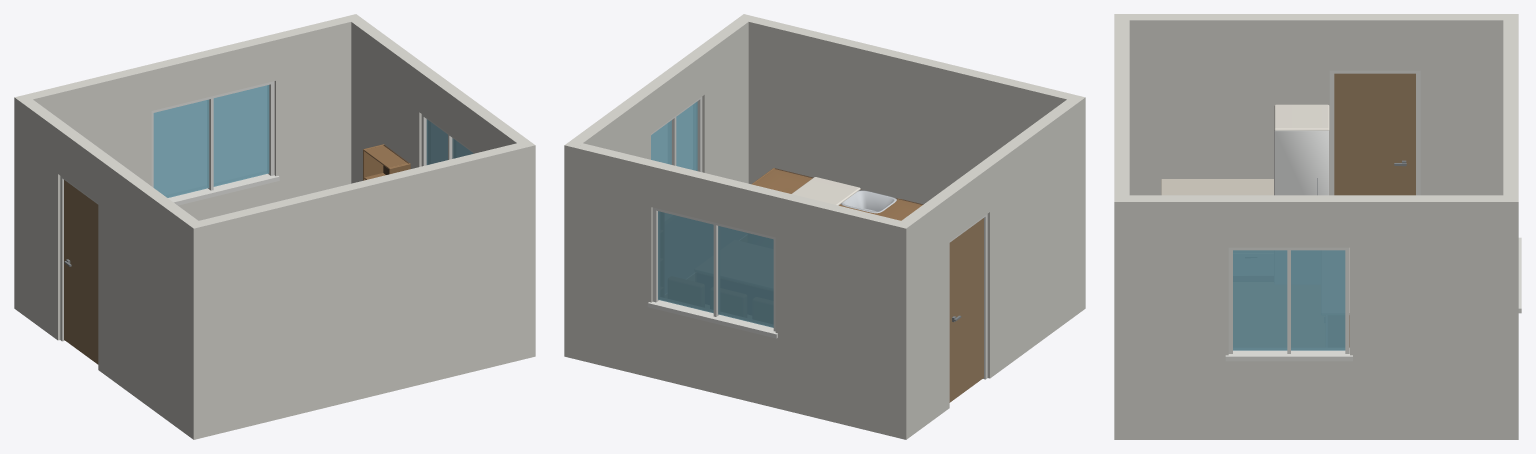
File: oursv11b.glb
3 renders of one model, left to right at view 1: azimuth 30°, elevation 25°; view 2: azimuth 150°, elevation 25°; view 3: azimuth 270°, elevation 25°, orthographic. The views are drawn at different scales.
Parts seen in each view (by area): view 1: wall|scenesmith_091__R00|0, wall|scenesmith_091__R00|2, wall|scenesmith_091__R00|1, wall|scenesmith_091__R00|3, wall|scenesmith_091__R00|1 Window 0 | glazing, wall|scenesmith_091__R00|2 Door 0 | wood leaf, wall|scenesmith_091__R00|1 Window 0 | jamb, Backrest.001, wall|scenesmith_091__R00|3 Window 0 | glazing, wall|scenesmith_091__R00|2 Door 0 | jamb, wall|scenesmith_091__R00|3 Window 0 | jamb; view 2: wall|scenesmith_091__R00|1, wall|scenesmith_091__R00|0, wall|scenesmith_091__R00|2, wall|scenesmith_091__R00|3, wall|scenesmith_091__R00|1 Window 0 | glazing, wall|scenesmith_091__R00|2 Door 0 | wood leaf, wall|scenesmith_091__R00|1 Window 0 | jamb, wall|scenesmith_091__R00|3 Window 0 | glazing, Backrest.001, Appliance enclosure, Basin, wall|scenesmith_091__R00|3 Window 0 | jamb (+1 smaller); view 3: wall|scenesmith_091__R00|3, wall|scenesmith_091__R00|2, wall|scenesmith_091__R00|3 Window 0 | glazing, wall|scenesmith_091__R00|2 Door 0 | wood leaf, wall|scenesmith_091__R00|1, Freezer drawer, wall|scenesmith_091__R00|3 Window 0 | jamb, wall|scenesmith_091__R00|0, Stone worktop, wall|scenesmith_091__R00|2 Door 0 | jamb, Appliance enclosure.
Boxes of the visible parts, <box> form: wall|scenesmith_091__R00|0: <box>193,143,535,439</box>; wall|scenesmith_091__R00|2: <box>15,94,205,439</box>; wall|scenesmith_091__R00|1: <box>14,17,351,313</box>; wall|scenesmith_091__R00|3: <box>345,14,534,183</box>; wall|scenesmith_091__R00|1 Window 0 | glazing: <box>153,85,269,197</box>; wall|scenesmith_091__R00|2 Door 0 | wood leaf: <box>64,180,98,364</box>; wall|scenesmith_091__R00|1 Window 0 | jamb: <box>151,81,279,205</box>; Backrest.001: <box>363,144,410,180</box>; wall|scenesmith_091__R00|3 Window 0 | glazing: <box>426,119,473,164</box>; wall|scenesmith_091__R00|2 Door 0 | jamb: <box>60,176,98,341</box>; wall|scenesmith_091__R00|3 Window 0 | jamb: <box>421,114,473,166</box>; wall|scenesmith_091__R00|1: <box>576,143,912,439</box>; wall|scenesmith_091__R00|0: <box>748,17,1073,204</box>; wall|scenesmith_091__R00|2: <box>894,94,1085,439</box>; wall|scenesmith_091__R00|3: <box>564,14,754,359</box>; wall|scenesmith_091__R00|1 Window 0 | glazing: <box>658,211,773,327</box>; wall|scenesmith_091__R00|2 Door 0 | wood leaf: <box>949,218,983,402</box>; wall|scenesmith_091__R00|1 Window 0 | jamb: <box>647,207,777,338</box>; wall|scenesmith_091__R00|3 Window 0 | glazing: <box>651,101,697,170</box>; Backrest.001: <box>751,168,922,220</box>; Appliance enclosure: <box>792,177,860,205</box>; Basin: <box>841,190,896,213</box>; wall|scenesmith_091__R00|3 Window 0 | jamb: <box>651,96,702,172</box>; wall|scenesmith_091__R00|3: <box>1114,195,1518,439</box>; wall|scenesmith_091__R00|2: <box>1114,14,1518,195</box>; wall|scenesmith_091__R00|3 Window 0 | glazing: <box>1233,250,1345,350</box>; wall|scenesmith_091__R00|2 Door 0 | wood leaf: <box>1334,73,1415,195</box>; wall|scenesmith_091__R00|1: <box>1503,20,1518,439</box>; Freezer drawer: <box>1274,130,1329,195</box>; wall|scenesmith_091__R00|3 Window 0 | jamb: <box>1225,247,1352,361</box>; wall|scenesmith_091__R00|0: <box>1114,20,1129,195</box>; Stone worktop: <box>1161,179,1349,314</box>; wall|scenesmith_091__R00|2 Door 0 | jamb: <box>1329,70,1420,195</box>; Appliance enclosure: <box>1274,104,1329,194</box>.
Bounding box in the file's own units: 4.43 × 2.61 × 4.03.
